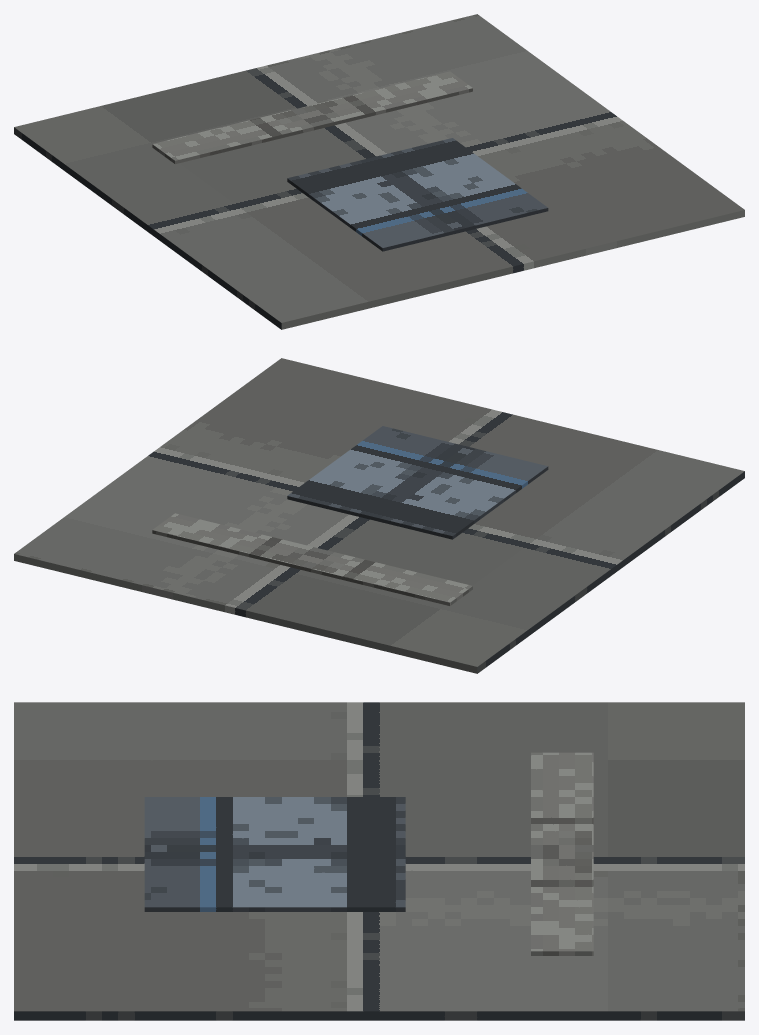
File: job_beat_cue.glb
3 views of the same model, one above another, from view 1: azimuth 30°, elevation 25°; view 2: azimuth 150°, elevation 25°; view 3: azimuth 270°, elevation 25° (orthographic). The views are drawn at different scales.
Parts seen in each view (by area): view 1: beat_scuff, beat_wear, beat_turn; view 2: beat_scuff, beat_wear, beat_turn; view 3: beat_scuff, beat_wear, beat_turn.
Boxes of the visible parts, x1,y1,x2,y2 form: beat_scuff: [14, 14, 744, 329]; beat_wear: [287, 138, 548, 251]; beat_turn: [152, 71, 472, 164]; beat_scuff: [14, 358, 744, 673]; beat_wear: [287, 426, 548, 539]; beat_turn: [152, 513, 472, 605]; beat_scuff: [14, 702, 744, 1020]; beat_wear: [144, 797, 405, 911]; beat_turn: [531, 752, 593, 955].
Bounding box in the file's own units: 1.4 × 0.03 × 1.4.
Materials: 3 (3 with a texture image).
